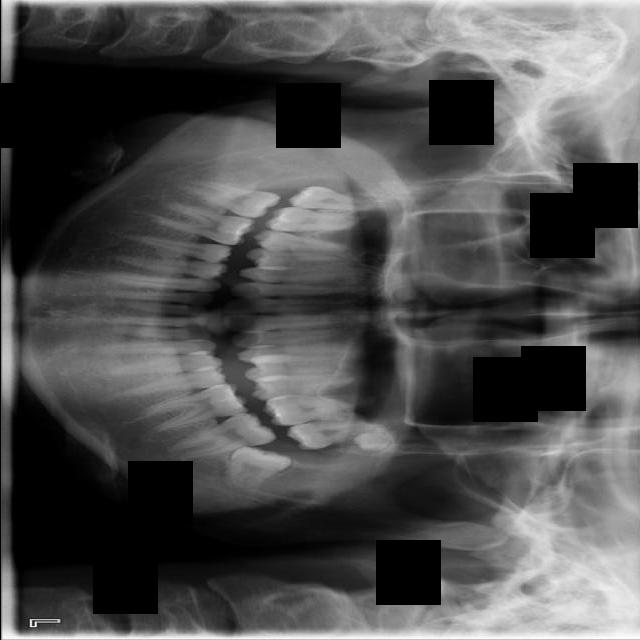52: (206, 214, 255, 247), (232, 437, 253, 451)
73: (74, 600, 86, 608)
BioHorizons Implant: (284, 408, 417, 452)
BioLife Implant: (351, 432, 391, 452)
Biomet 3i Implant: (218, 428, 293, 495)
Blue Sky Bio Implant: (168, 406, 278, 465)
Caries: (285, 184, 403, 215)
Implant: (180, 175, 281, 223)
